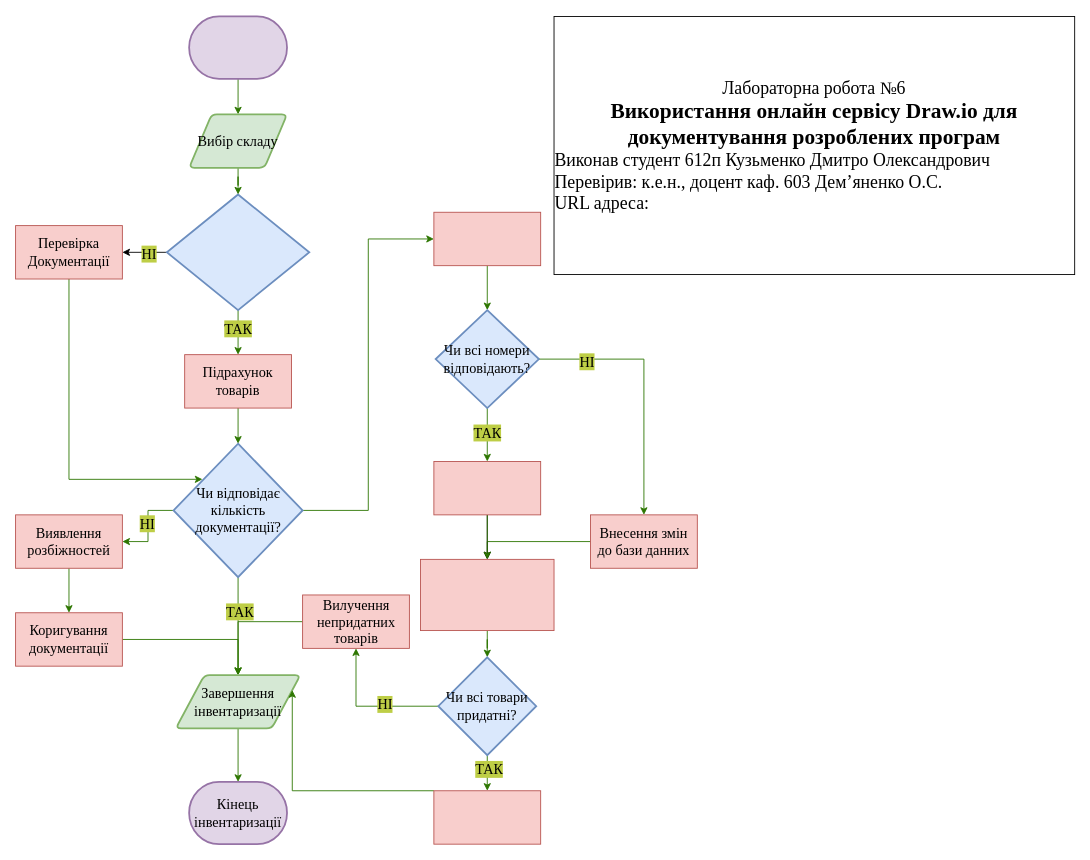
The diagram is 1090 pixels wide and 860 high, and some of its shapes have lost their labels. The shapes that lost their labels are listed below. From the top down, each one's centre as x and y in pixels, then its label:
(237,47): Початок інвентаризації
(238,252): Чи є товари для підрахунку?
(487,238): Перевірка серійних номерів
(487,488): Продовження підрахунку
(487,594): Перевірка терміну придатності товарів
(487,817): Превірка умов зберігання
